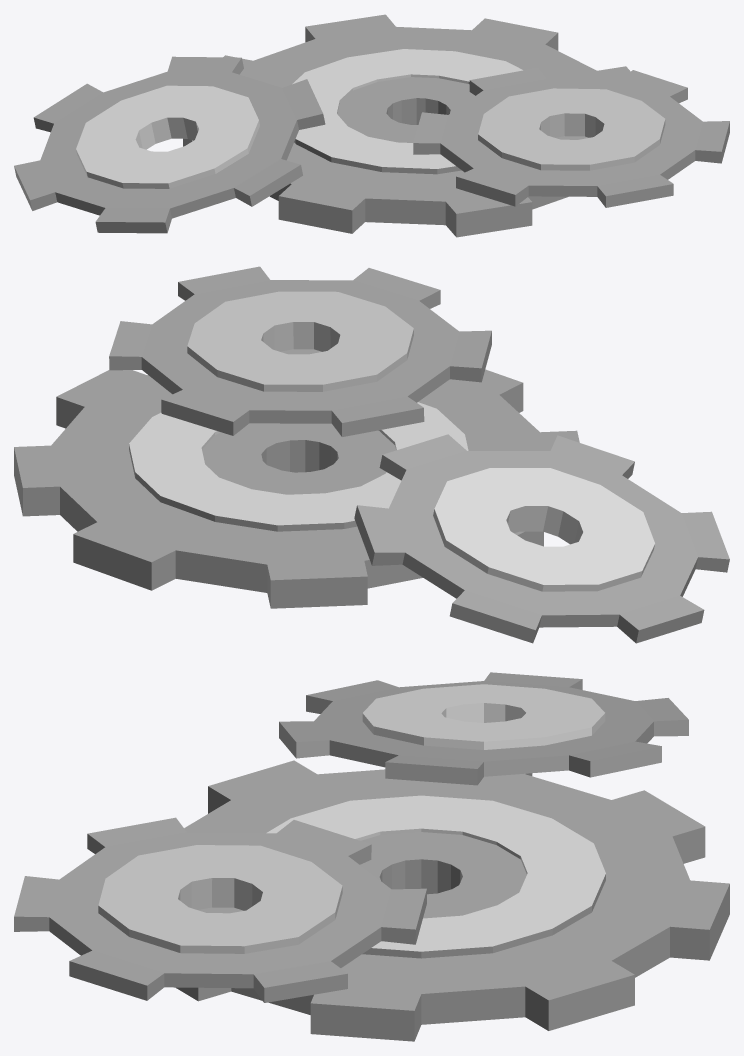
The model's file is Metallic part 4.fbx.
3 views of the same model, one above another, from view 1: azimuth 30°, elevation 25°; view 2: azimuth 150°, elevation 25°; view 3: azimuth 270°, elevation 25° (orthographic). The views are drawn at different scales.
Parts seen in each view (by area): view 1: Metallic part 4; view 2: Metallic part 4; view 3: Metallic part 4.
Part boxes in pixels (left/top/right/bottom): Metallic part 4: left=14, top=14, right=729, bottom=237; Metallic part 4: left=14, top=266, right=729, bottom=643; Metallic part 4: left=14, top=672, right=729, bottom=1041.
Bounding box in the file's own units: 12.22 × 1.44 × 10.17.
